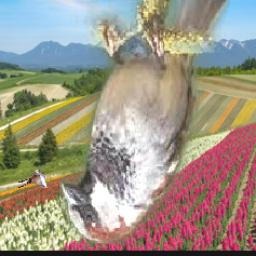Cuckoo: (19, 169, 49, 188)
Sparrow: (59, 0, 230, 245)
